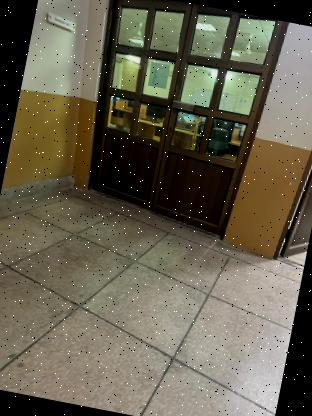door: (65, 0, 280, 248)
